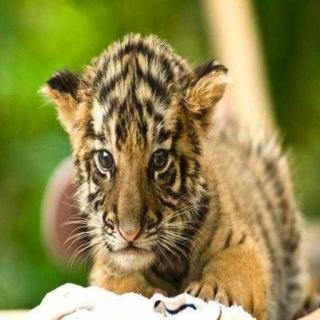Tiger: (30, 7, 310, 311)
